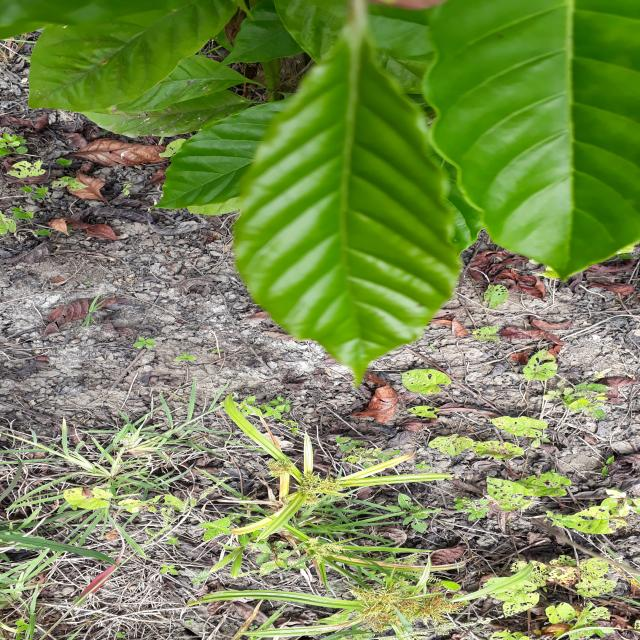Sanas: (232, 0, 460, 383)
